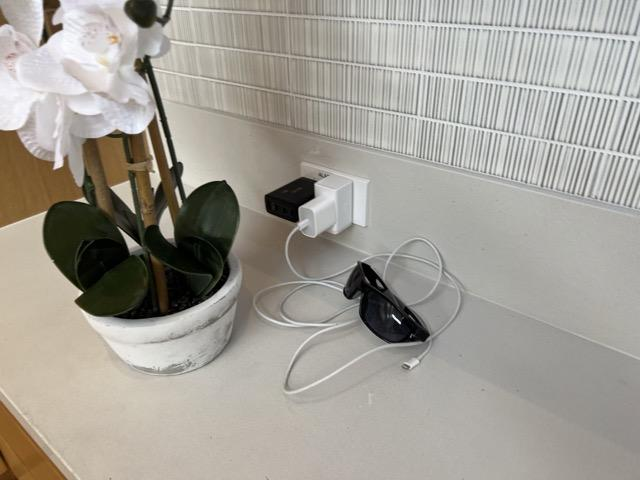Sunglasses: (343, 258, 430, 345)
